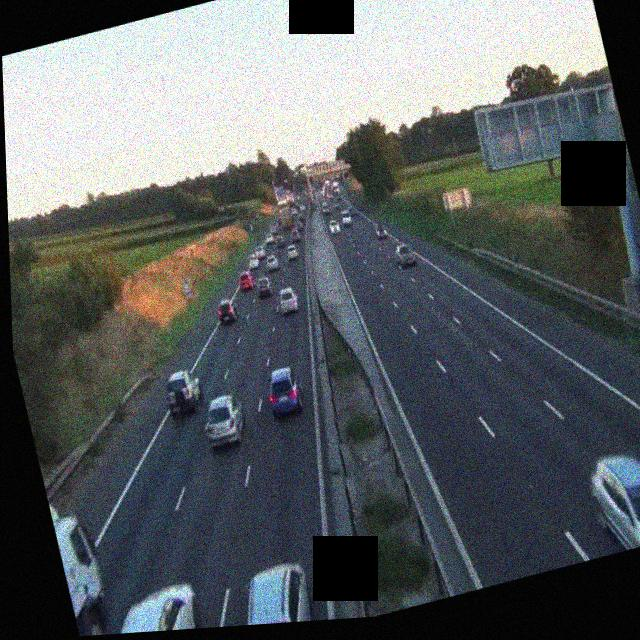car: (583, 437, 640, 556), (95, 579, 209, 635), (227, 557, 318, 626), (199, 389, 250, 453), (161, 366, 207, 421), (264, 365, 306, 418), (276, 286, 300, 316), (215, 297, 239, 326), (395, 241, 417, 268), (255, 276, 274, 300), (237, 269, 256, 292), (263, 251, 279, 272), (283, 242, 299, 261), (373, 221, 388, 240), (249, 248, 264, 267), (340, 207, 353, 227), (329, 218, 342, 235), (258, 236, 270, 252), (290, 227, 302, 242), (273, 233, 285, 248), (322, 206, 331, 218)
truck: (46, 483, 123, 638)
